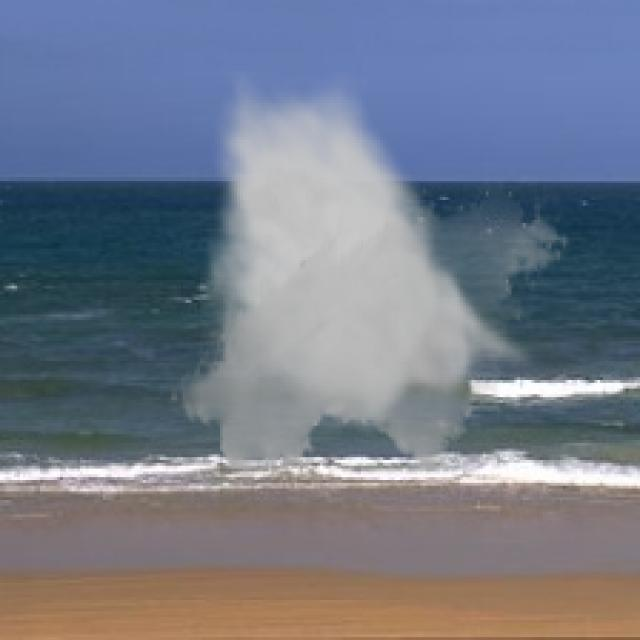Smoke: (168, 71, 572, 483)
